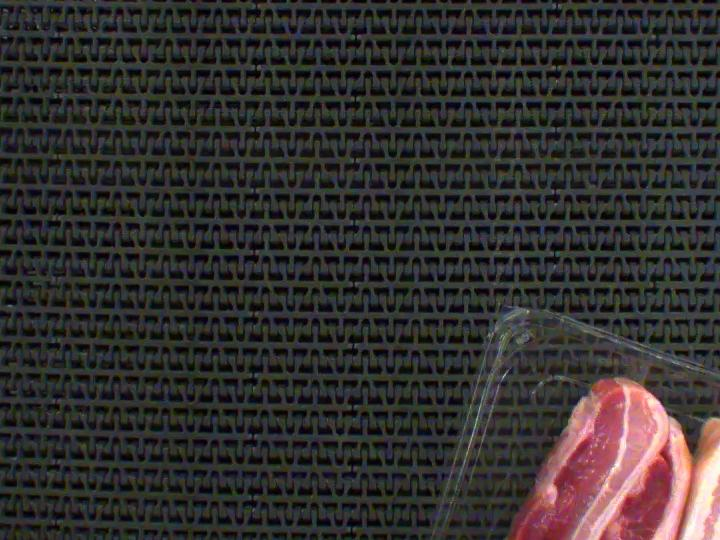packaging-error: (621, 348, 652, 391)
